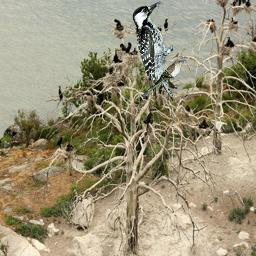Cuckoo: (141, 59, 187, 98)
Woodpecker: (132, 1, 173, 102)
